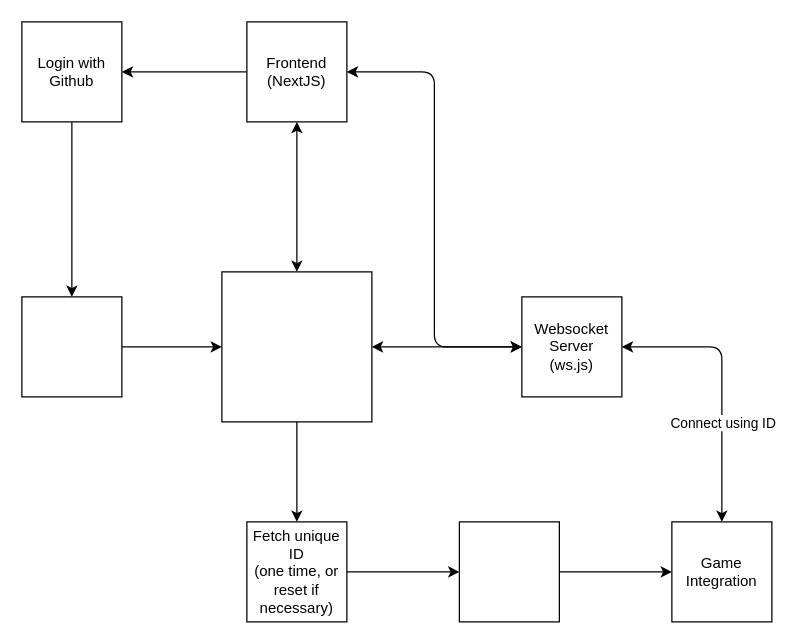
Some shapes in this 796 by 644 pixel diagram are drawn without their labels. The shapes that lost their labels are listed below. From the top down, each one's centre as x and y in pixels, then its label:
At point 71,346: "Create dashboard account".
At point 296,346: "Server (API, Express)".
At point 508,571: "Save ID to server".
